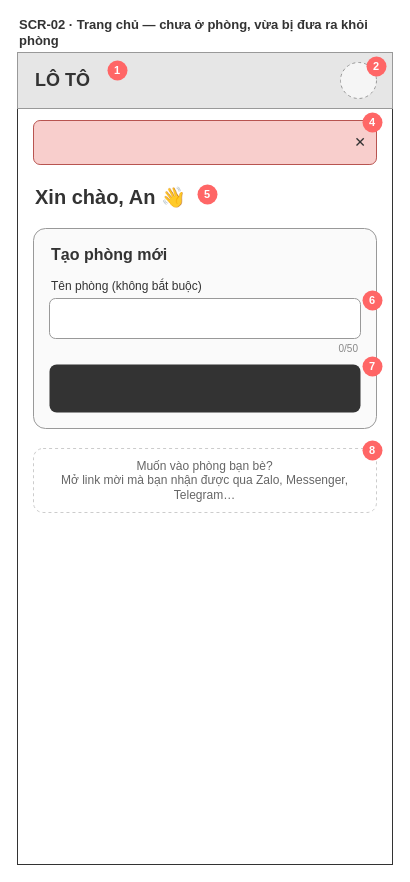
This 410x882 diagram has some shape labels left out. Each missing label, with the box of its shape:
Bạn đã bị mời ra khỏi phòng "Phòng của Bình".: (32, 120, 376, 164)
Phòng của An: (48, 298, 360, 338)
Tạo phòng: (49, 364, 360, 412)
Ảnh: (340, 62, 376, 98)
